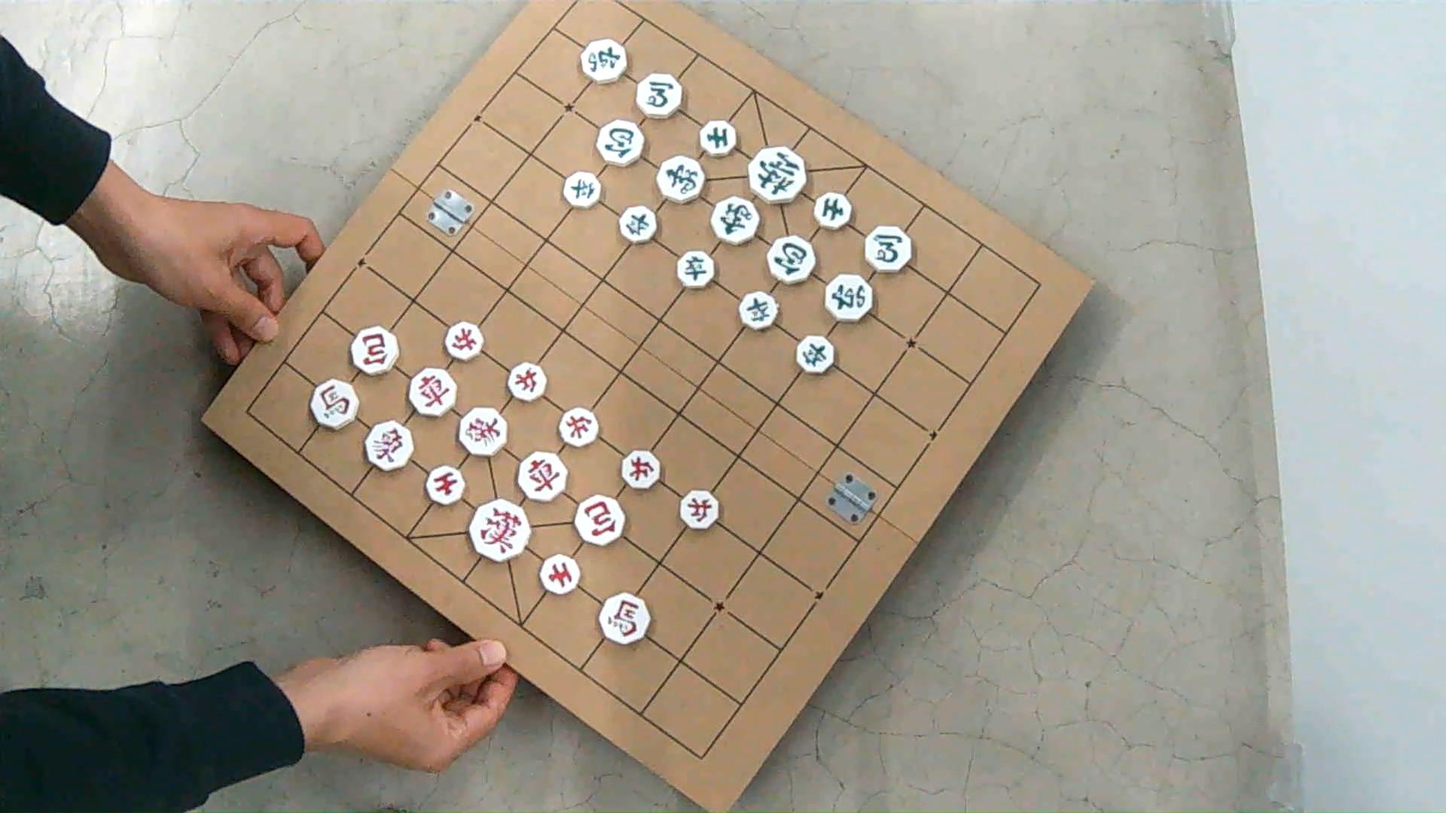cha_green: (825, 273, 875, 322), (580, 38, 627, 83)
cha_red: (517, 452, 566, 501), (409, 367, 456, 416)
jol_green: (738, 291, 777, 330), (796, 335, 835, 374), (677, 251, 715, 288), (563, 171, 600, 208), (620, 206, 657, 242)
jol_red: (444, 321, 484, 361), (558, 408, 599, 447), (621, 449, 660, 489), (680, 490, 719, 530), (507, 363, 548, 401)
ma_green: (864, 225, 912, 273), (636, 73, 682, 117)
ma_red: (599, 593, 649, 644), (310, 379, 358, 428)
po_green: (767, 236, 816, 284), (596, 120, 643, 166)
po_red: (575, 495, 624, 545), (351, 327, 398, 375)
sa_green: (814, 192, 851, 229), (699, 120, 736, 156)
sa_red: (539, 554, 579, 594), (426, 464, 463, 504)
sang_green: (712, 196, 759, 244), (657, 155, 704, 202)
sang_red: (365, 421, 412, 470), (459, 408, 507, 455)
wang_green: (748, 146, 807, 203)
wang_red: (469, 499, 530, 561)
